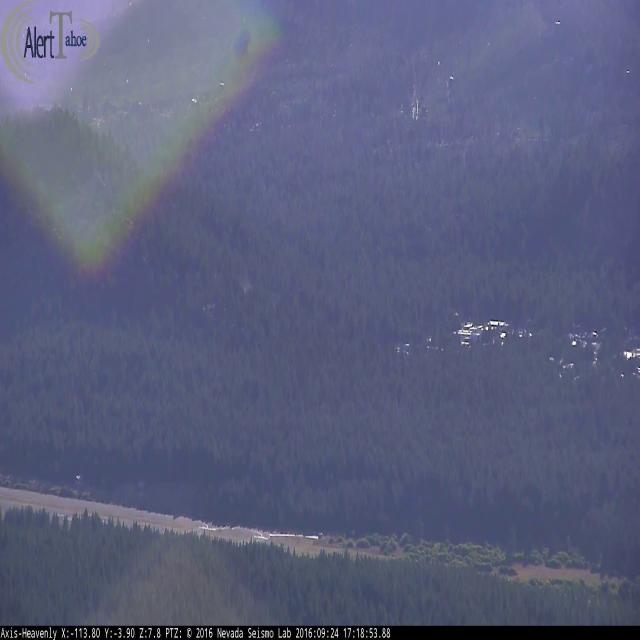smoke: (227, 247, 282, 308)
